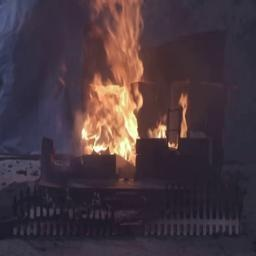fire: (66, 0, 152, 161)
